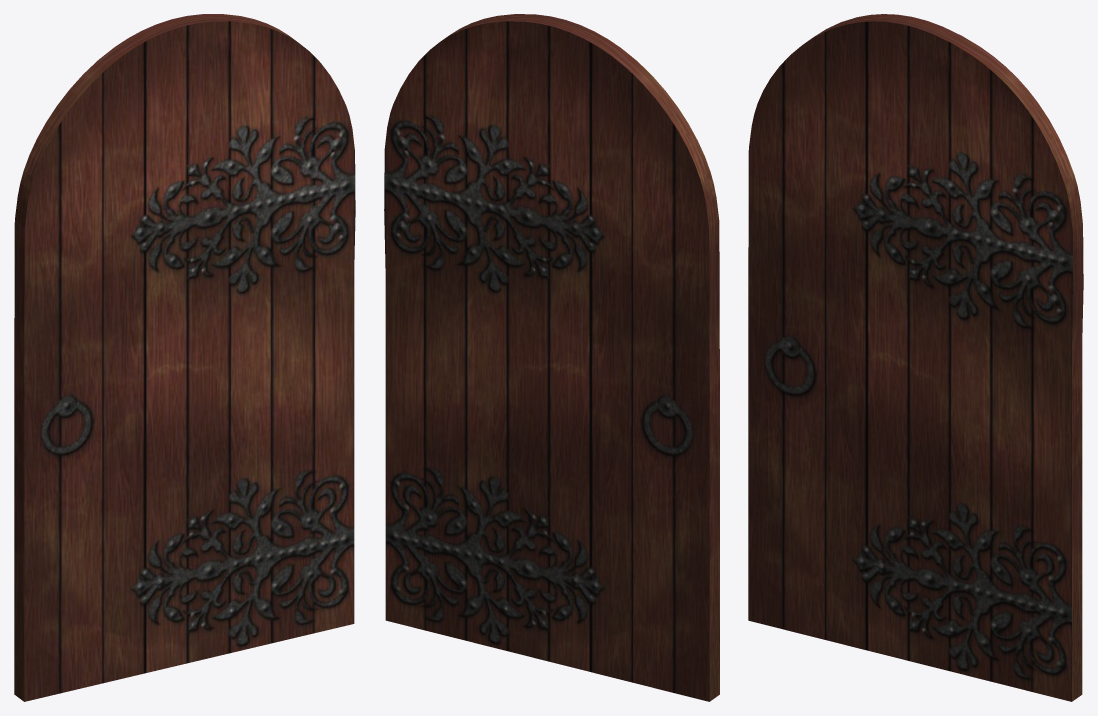
Rendered from door 2.obj.
The picture shows the model from 3 angles, left to right: view 1: azimuth 30°, elevation 25°; view 2: azimuth 150°, elevation 25°; view 3: azimuth 330°, elevation 25°; orthographic projection.
Parts seen in each view (by area): view 1: door_10:Mesh; view 2: door_10:Mesh; view 3: door_10:Mesh.
Boxes of the visible parts, left/top/right/bottom form: door_10:Mesh: left=14, top=14, right=355, bottom=701; door_10:Mesh: left=384, top=14, right=719, bottom=701; door_10:Mesh: left=748, top=14, right=1083, bottom=701.
Bounding box in the file's own units: 64.69 × 120 × 4.29.
Materials: 1 (1 with a texture image).
